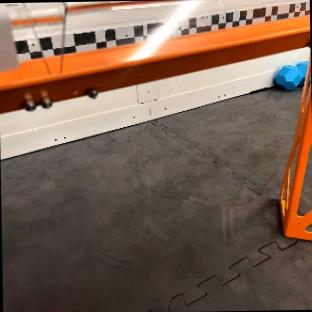Goal: (280, 60, 312, 239)
V5_BLUE: (275, 61, 306, 89)
